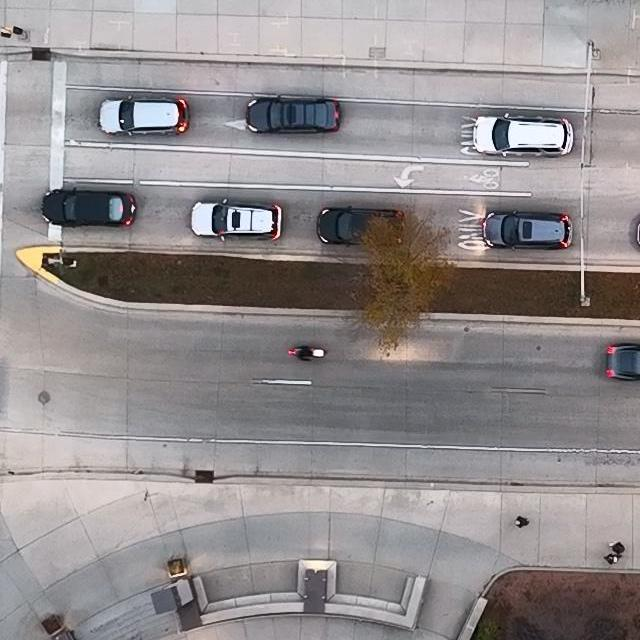car: (473, 112, 574, 158), (191, 198, 285, 241), (97, 94, 191, 135), (247, 93, 342, 133), (42, 187, 137, 226), (317, 204, 404, 246), (482, 209, 572, 249), (604, 342, 640, 381)
